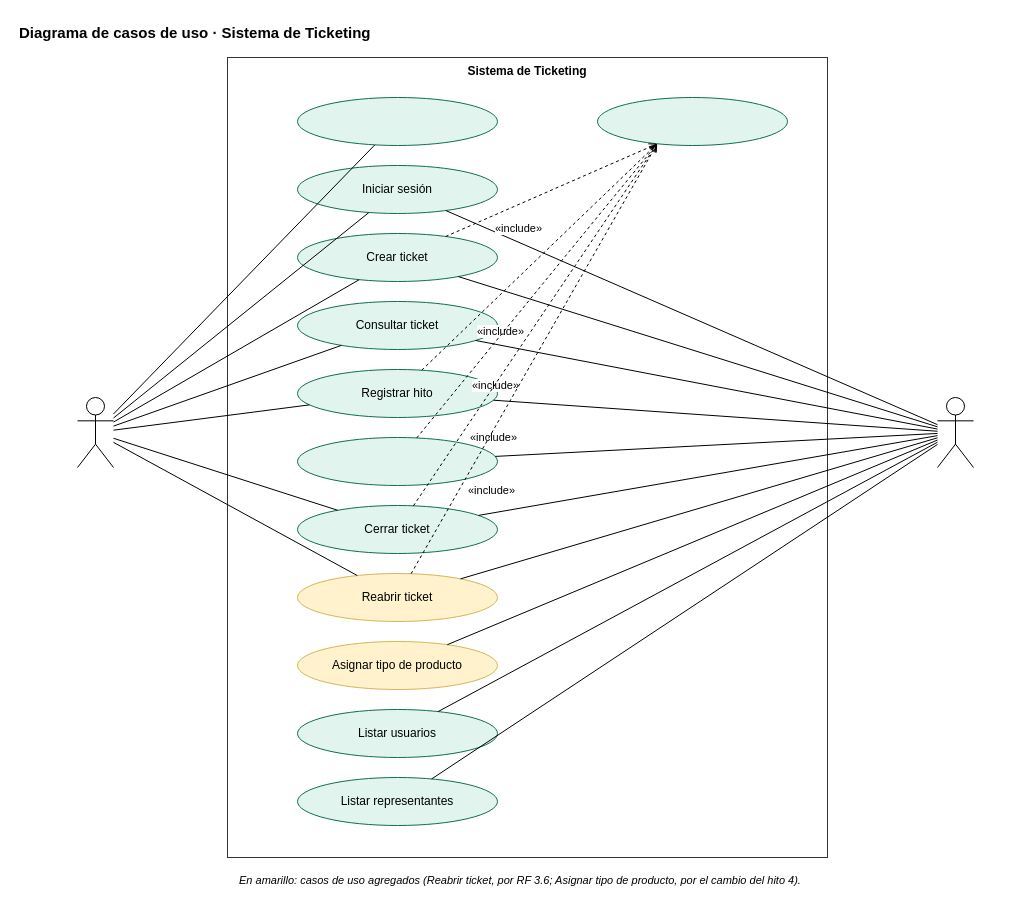
This 1014x914 diagram has some shape labels left out. Each missing label, with the centre of its shape:
Cambiar estado ticket: [397,461]
Cliente: [95,432]
Enviar notificación: [692,121]
Registrar cliente: [397,121]
Representante Telefónico: [955,432]
